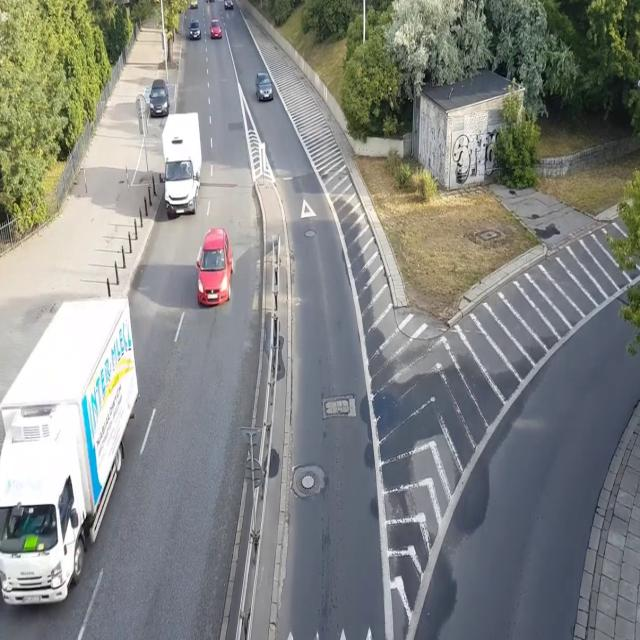car: (196, 226, 234, 307), (149, 79, 170, 117), (254, 70, 274, 103), (210, 17, 222, 41), (189, 19, 202, 40), (223, 0, 233, 10), (189, 0, 198, 8), (205, 0, 215, 3)
truck: (0, 296, 139, 605), (159, 112, 203, 220)
